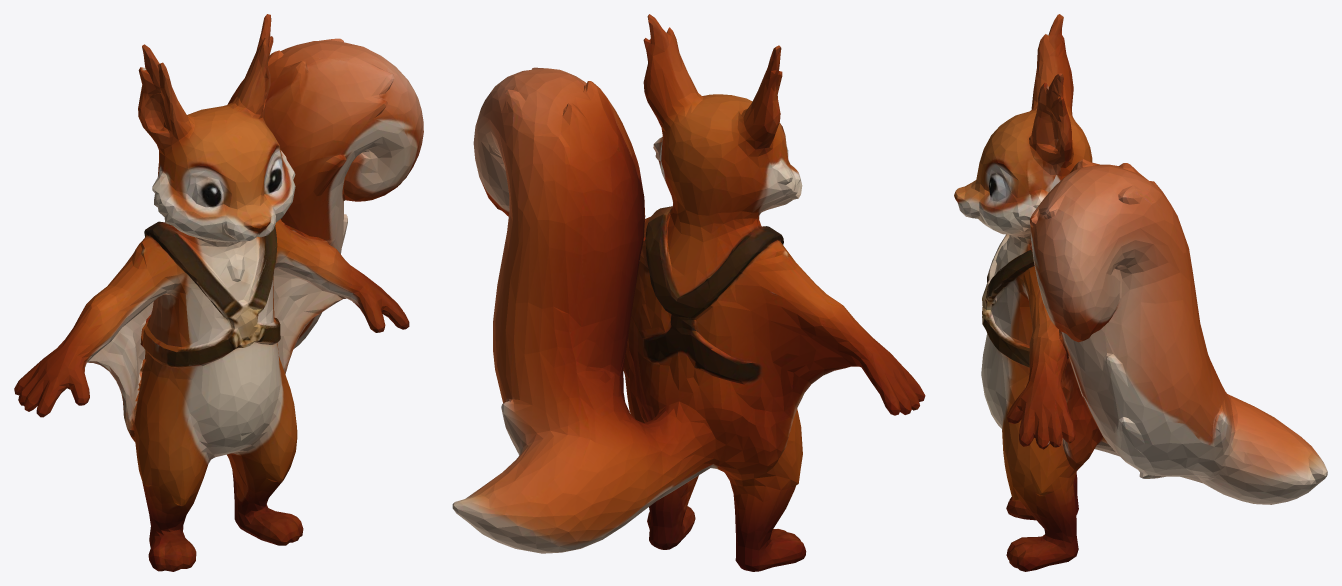
File: glider_squirrel.glb
3 renders of one model, left to right at view 1: azimuth 30°, elevation 25°; view 2: azimuth 150°, elevation 25°; view 3: azimuth 270°, elevation 25°, orthographic. The views are drawn at different scales.
Visible parts, largest first — view 1: tmpt63zsekg.ply; view 2: tmpt63zsekg.ply; view 3: tmpt63zsekg.ply.
Part boxes in pixels (box(x1,y1,x2,y2)): tmpt63zsekg.ply: box(14, 14, 423, 571); tmpt63zsekg.ply: box(452, 14, 925, 571); tmpt63zsekg.ply: box(954, 14, 1327, 571).
Size of the model in its own units: 1.14 by 1.35 by 0.9256.
1 material, 1 textured.
